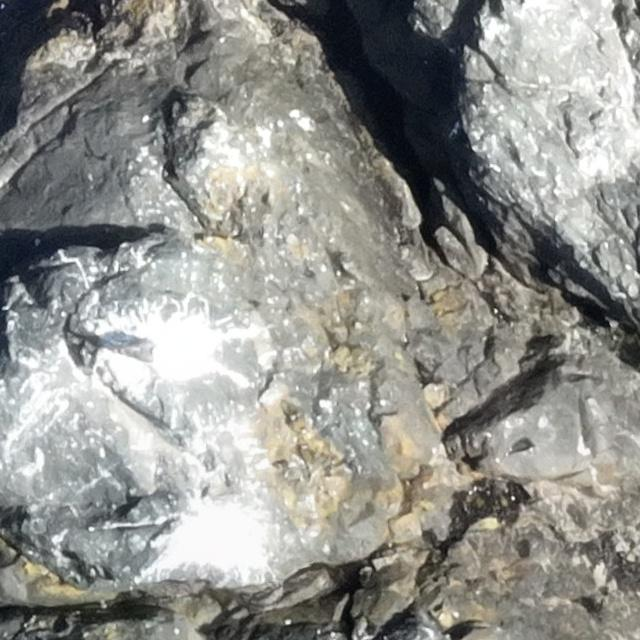umineko: (119, 337, 167, 364)
